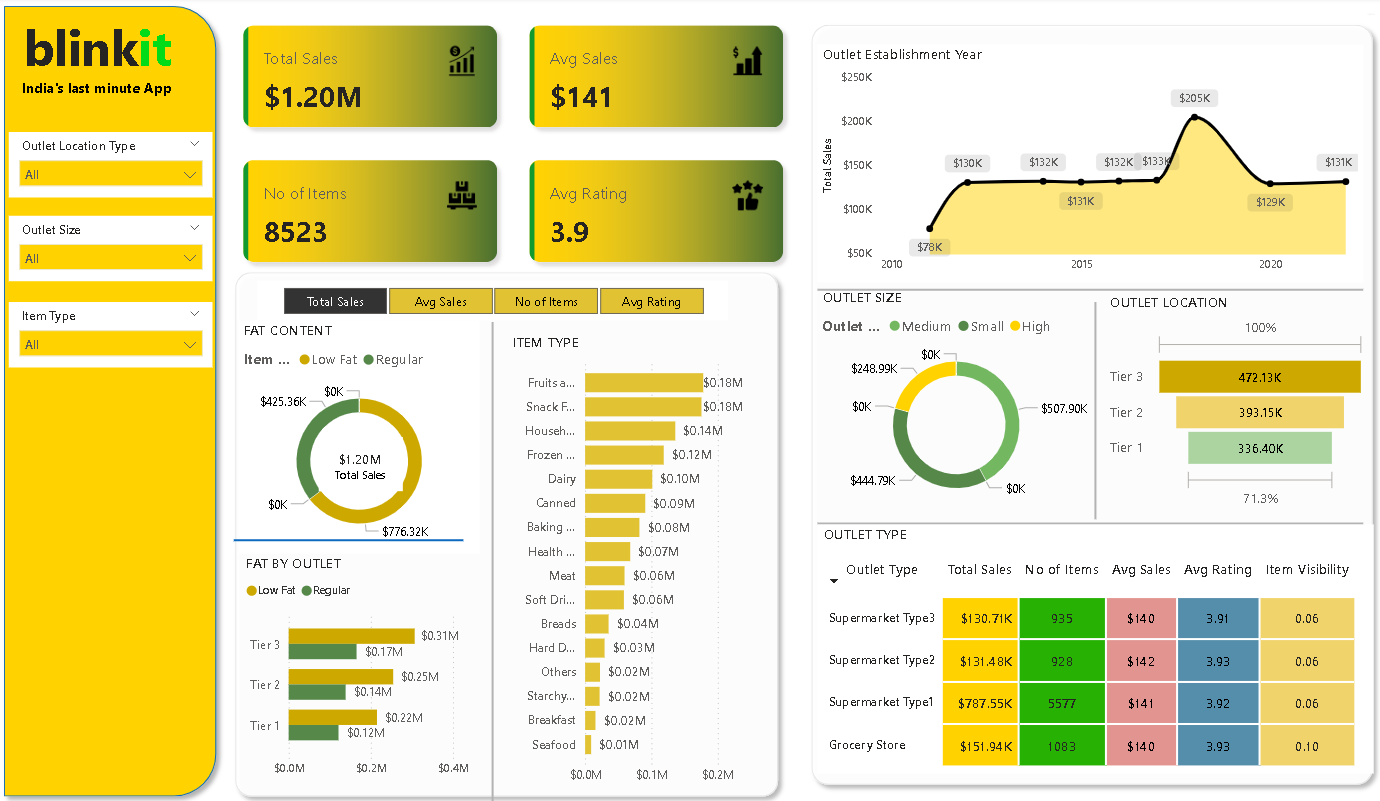

What the dashboard file says about the page in this screenshot:
{"tool":"powerbi","page":{"name":"Page 1","canvas":[1400,800],"ordinal":0},"visuals":[{"type":"shape","box":[10,0,228.3,800],"z":0},{"type":"textbox","box":[9.3,10.9,202.2,98],"z":1000},{"type":"cardVisual","fields":{"Data":["BlinkIT Grocery Data.Total Sales","BlinkIT Grocery Data.Avg Sales","BlinkIT Grocery Data.No of Items","BlinkIT Grocery Data.Avg Rating"]},"box":[238.3,11,569.7,269.8],"z":2000},{"type":"shape","box":[238.3,263.3,555,536.7],"z":3000},{"type":"donutChart","title":"FAT CONTENT","fields":{"Y":["BlinkIT Grocery Data.Total Sales","BlinkIT Grocery Data.Avg Sales"],"Category":["BlinkIT Grocery Data.Item Fat Content"]},"box":[251.7,320,238.3,230],"z":4000},{"type":"slicer","fields":{"Values":["Metrics.Metrics"]},"box":[269.8,280.9,465.5,39.5],"z":5000},{"type":"cardVisual","fields":{"Data":["BlinkIT Grocery Data.Total Sales"]},"box":[330,435,83.3,53.3],"z":6000},{"type":"clusteredBarChart","title":"FAT BY OUTLET","fields":{"Y":["BlinkIT Grocery Data.Total Sales"],"Category":["BlinkIT Grocery Data.Outlet Location Type"],"Series":["BlinkIT Grocery Data.Item Fat Content"]},"box":[253.3,550,236.7,230],"z":7000},{"type":"tableEx","fields":{"Values":["Metrics.Metrics"]},"box":[1362.5,11.2,17.5,12.5],"z":8000},{"type":"shape","box":[246.2,526.2,227.5,23.8],"z":9000},{"type":"shape","box":[398.3,321.7,208.3,478.3],"z":10000},{"type":"barChart","title":"ITEM TYPE","fields":{"Y":["BlinkIT Grocery Data.Total Sales"],"Category":["BlinkIT Grocery Data.Item Type"]},"box":[516.7,331.7,255,456.7],"z":11000},{"type":"shape","box":[808.3,18.3,573.3,770],"z":12000},{"type":"lineChart","title":"Outlet Establishment Year","fields":{"Category":["BlinkIT Grocery Data.Outlet Establishment Year"],"Y":["BlinkIT Grocery Data.Total Sales"]},"box":[823.3,46.7,540,235],"z":13000},{"type":"shape","box":[823.3,256.7,540,65],"z":14000},{"type":"donutChart","title":"OUTLET SIZE","fields":{"Y":["BlinkIT Grocery Data.Total Sales","BlinkIT Grocery Data.Avg Sales"],"Category":["BlinkIT Grocery Data.Outlet Size"]},"box":[823.3,286.7,275,225],"z":15000},{"type":"shape","box":[1058.3,301.7,80,215],"z":16000},{"type":"funnel","title":"OUTLET LOCATION","fields":{"Category":["BlinkIT Grocery Data.Outlet Location Type"],"Y":["Sum(BlinkIT Grocery Data.Sales)"]},"box":[1108.3,291.7,263.3,220],"z":17000},{"type":"shape","box":[823.3,488.3,540,65],"z":18000},{"type":"pivotTable","title":"OUTLET TYPE","fields":{"Rows":["BlinkIT Grocery Data.Outlet Type"],"Values":["BlinkIT Grocery Data.Total Sales","BlinkIT Grocery Data.No of Items","BlinkIT Grocery Data.Avg Sales","BlinkIT Grocery Data.Avg Rating","Avg(BlinkIT Grocery Data.Item Visibility)"]},"box":[823.3,521.7,550,246.7],"z":19000},{"type":"slicer","fields":{"Values":["BlinkIT Grocery Data.Outlet Location Type"]},"box":[23.3,133.3,201.7,65],"z":20000},{"type":"slicer","fields":{"Values":["BlinkIT Grocery Data.Outlet Size"]},"box":[23.3,216.7,201.7,65],"z":21000},{"type":"slicer","fields":{"Values":["BlinkIT Grocery Data.Item Type"]},"box":[23.3,301.7,201.7,65],"z":22000}]}

Visuals, with their boxes in screenshot pixels (x1, y1, x2, y2), scaled from the page's 1400x800 canvas onto the 1380x801 screenshot:
shape: {"left": 10, "top": 0, "right": 235, "bottom": 800}
textbox: {"left": 9, "top": 11, "right": 208, "bottom": 109}
cardVisual - BlinkIT Grocery Data.Total Sales x BlinkIT Grocery Data.Avg Sales: {"left": 235, "top": 11, "right": 796, "bottom": 281}
shape: {"left": 235, "top": 264, "right": 782, "bottom": 800}
"FAT CONTENT" donutChart: {"left": 248, "top": 320, "right": 483, "bottom": 551}
slicer - Metrics.Metrics: {"left": 266, "top": 281, "right": 725, "bottom": 321}
cardVisual - BlinkIT Grocery Data.Total Sales: {"left": 325, "top": 436, "right": 407, "bottom": 489}
"FAT BY OUTLET" clusteredBarChart: {"left": 250, "top": 551, "right": 483, "bottom": 781}
tableEx - Metrics.Metrics: {"left": 1343, "top": 11, "right": 1360, "bottom": 24}
shape: {"left": 243, "top": 527, "right": 467, "bottom": 551}
shape: {"left": 393, "top": 322, "right": 598, "bottom": 800}
"ITEM TYPE" barChart: {"left": 509, "top": 332, "right": 761, "bottom": 789}
shape: {"left": 797, "top": 18, "right": 1362, "bottom": 789}
"Outlet Establishment Year" lineChart: {"left": 812, "top": 47, "right": 1344, "bottom": 282}
shape: {"left": 812, "top": 257, "right": 1344, "bottom": 322}
"OUTLET SIZE" donutChart: {"left": 812, "top": 287, "right": 1083, "bottom": 512}
shape: {"left": 1043, "top": 302, "right": 1122, "bottom": 517}
"OUTLET LOCATION" funnel: {"left": 1092, "top": 292, "right": 1352, "bottom": 512}
shape: {"left": 812, "top": 489, "right": 1344, "bottom": 554}
"OUTLET TYPE" pivotTable: {"left": 812, "top": 522, "right": 1354, "bottom": 769}
slicer - BlinkIT Grocery Data.Outlet Location Type: {"left": 23, "top": 133, "right": 222, "bottom": 199}
slicer - BlinkIT Grocery Data.Outlet Size: {"left": 23, "top": 217, "right": 222, "bottom": 282}
slicer - BlinkIT Grocery Data.Item Type: {"left": 23, "top": 302, "right": 222, "bottom": 367}
